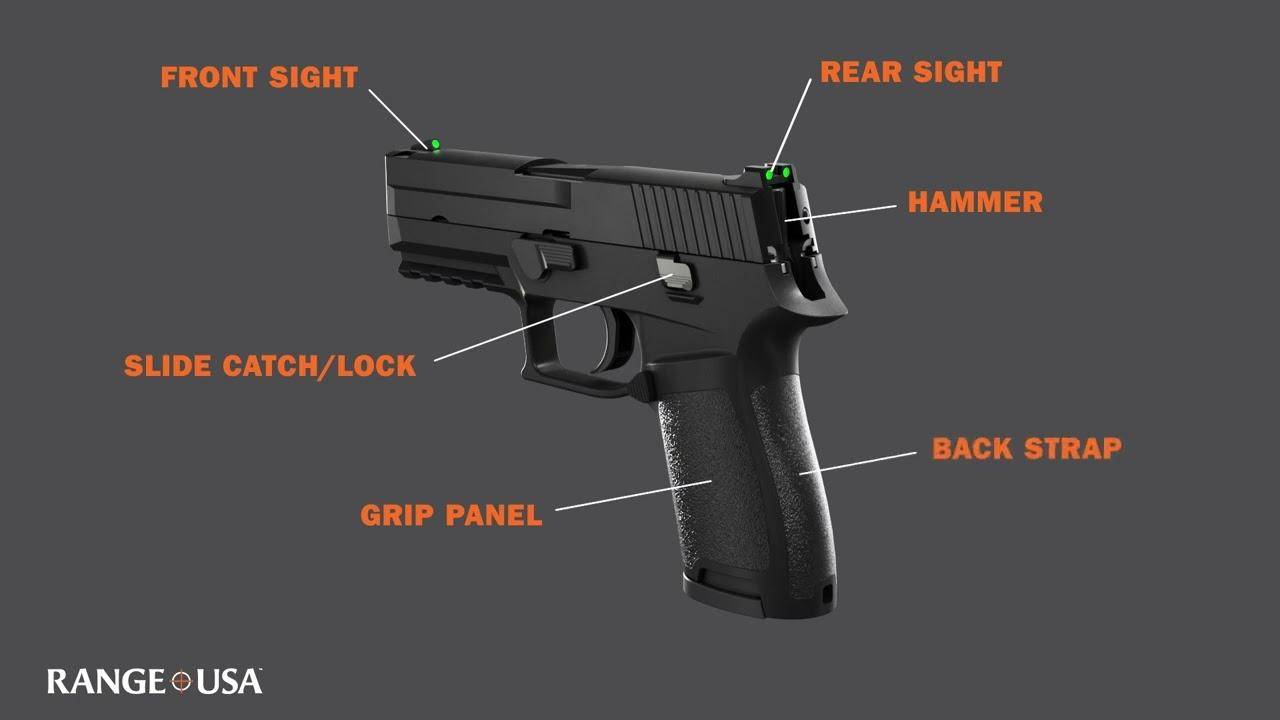handgun: (369, 130, 886, 630)
